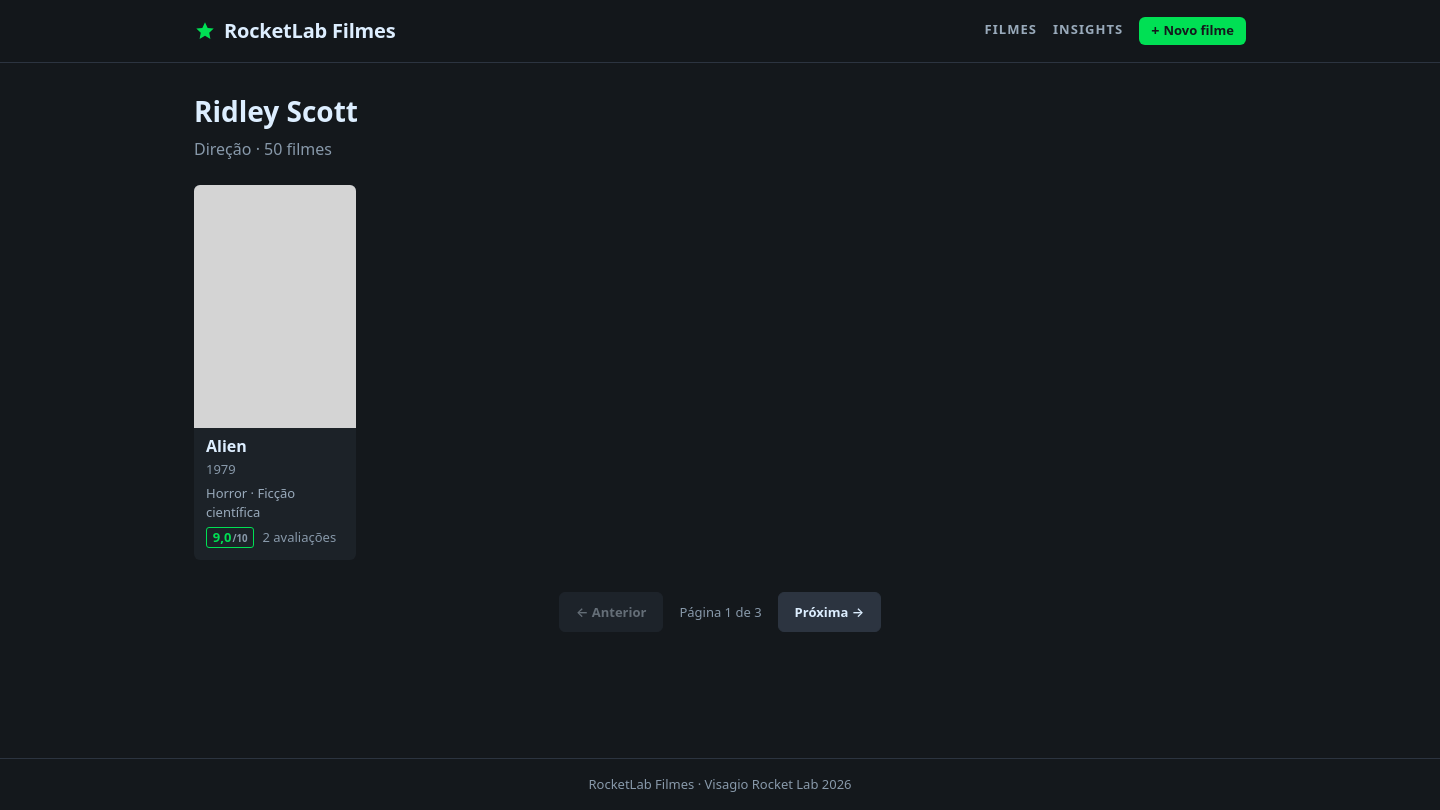
Test case: PersonPage — filmografia › pagina pela URL e busca a página seguinte
Click the button "Próxima →". click: (829, 612)
box: [778, 592, 881, 632]
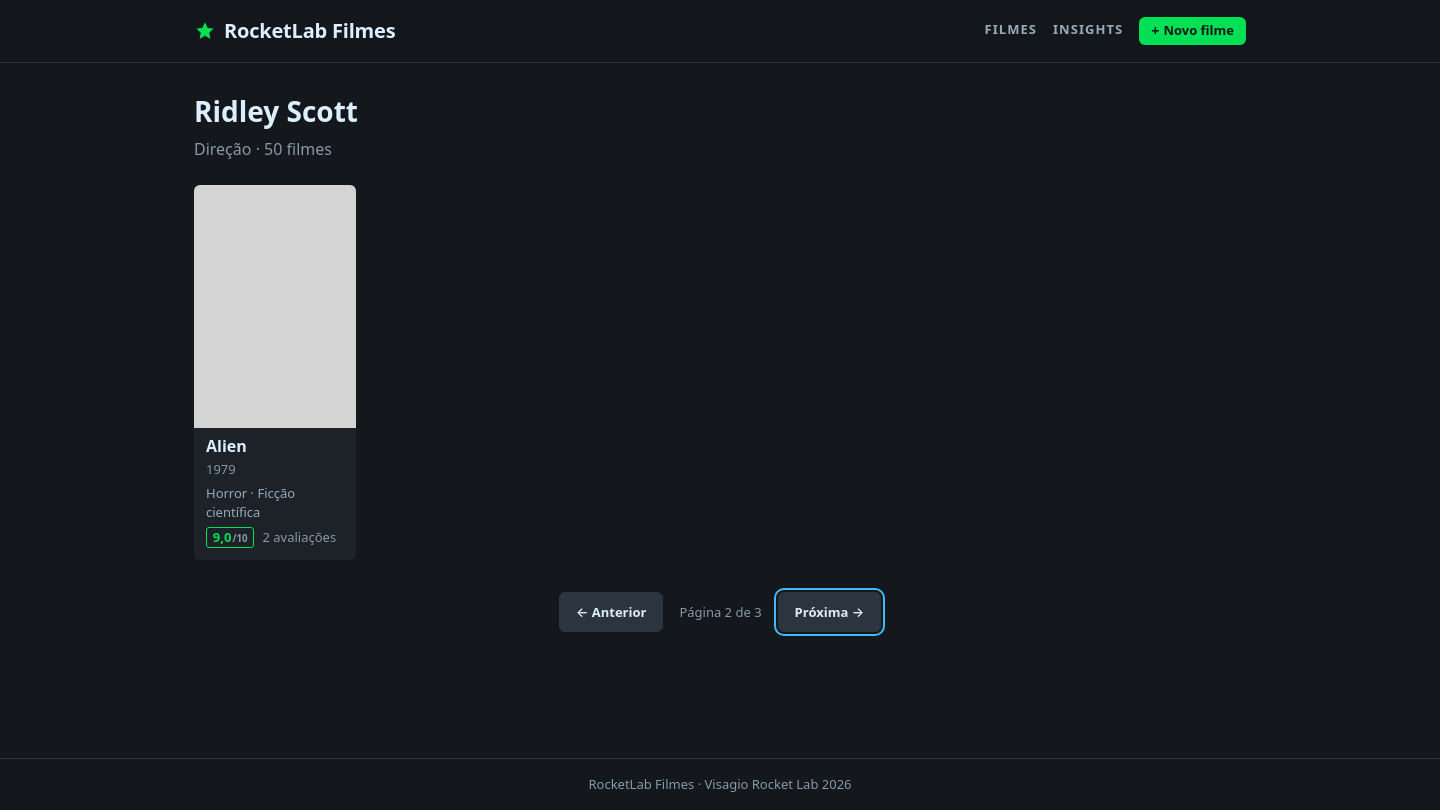
Expected: the text "Página 2 de 3" is shown, [679, 603, 762, 622]
